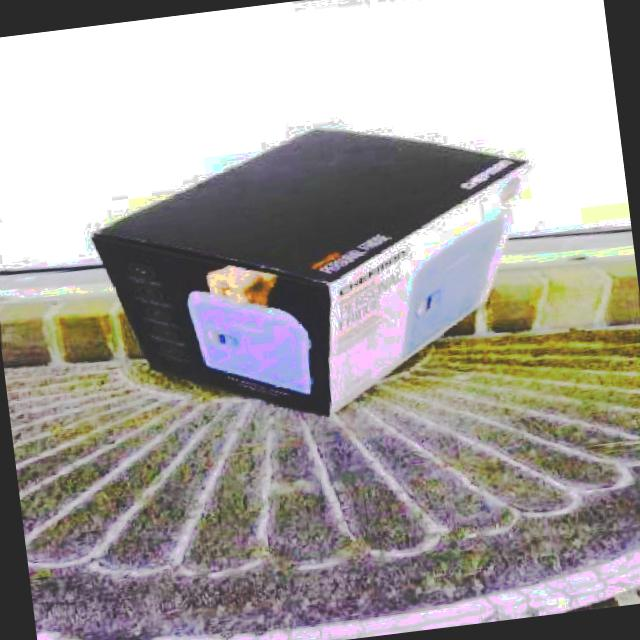Box: (73, 94, 561, 452)
